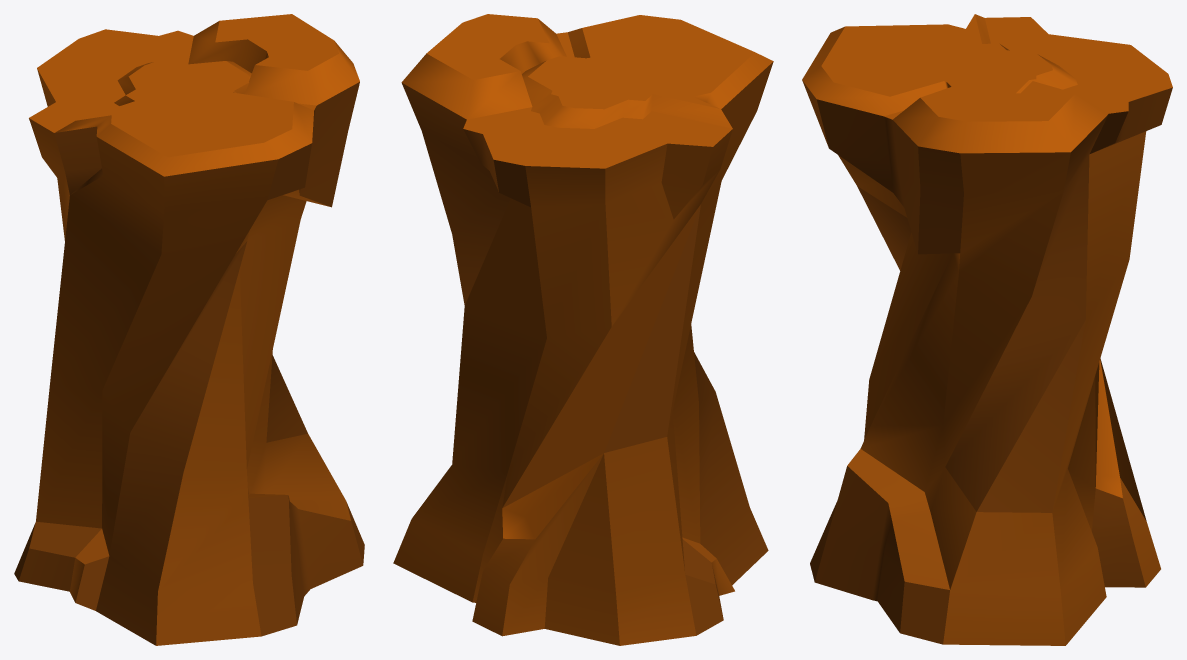
The model's file is Rock_6.fbx.
The picture shows the model from 3 angles, left to right: view 1: azimuth 30°, elevation 25°; view 2: azimuth 150°, elevation 25°; view 3: azimuth 270°, elevation 25°; orthographic projection. The views are drawn at different scales.
Visible parts, largest first — view 1: Rock_6; view 2: Rock_6; view 3: Rock_6.
Boxes of the visible parts, x1,y1,x2,y2 form: Rock_6: (14,14,364,645); Rock_6: (393,14,773,645); Rock_6: (802,14,1172,645).
Bounding box in the file's own units: 1004 × 1574 × 1024.
Materials: 1 (1 with a texture image).
